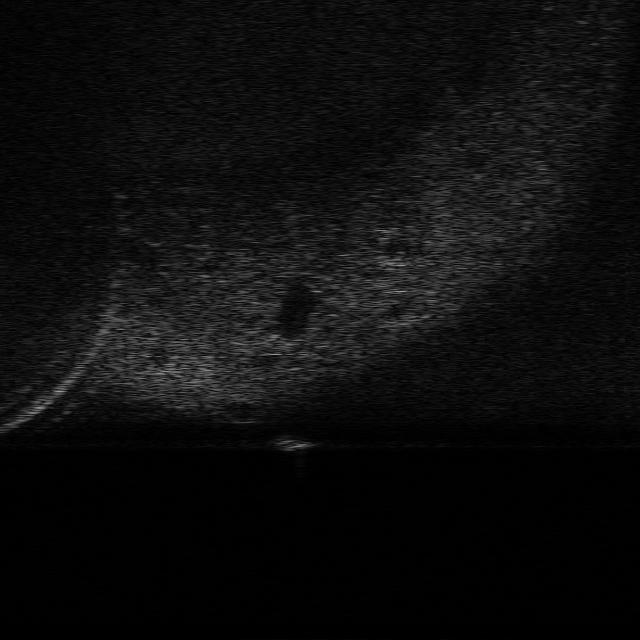cube: (272, 430, 318, 453)
